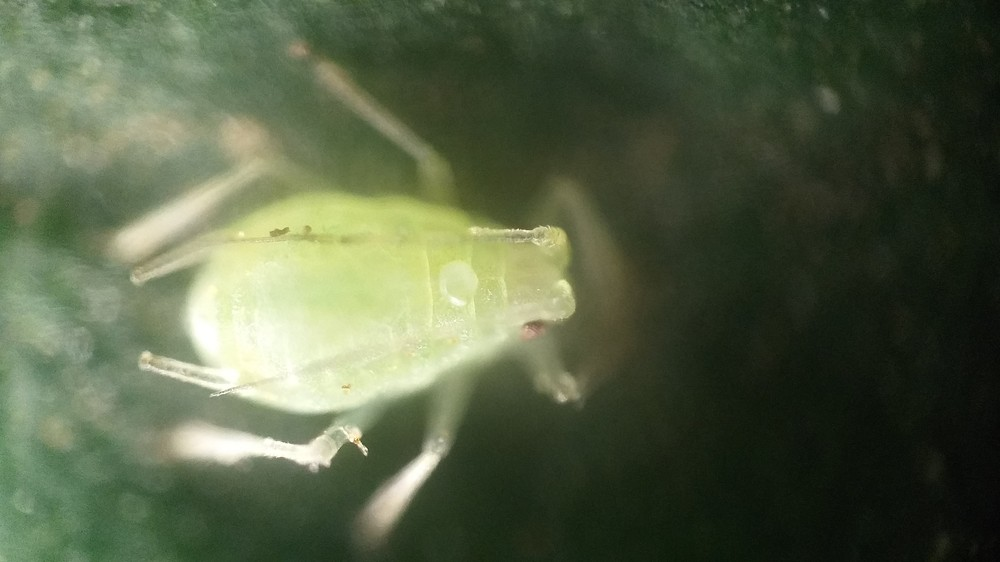Pulgon: (97, 52, 639, 545)
